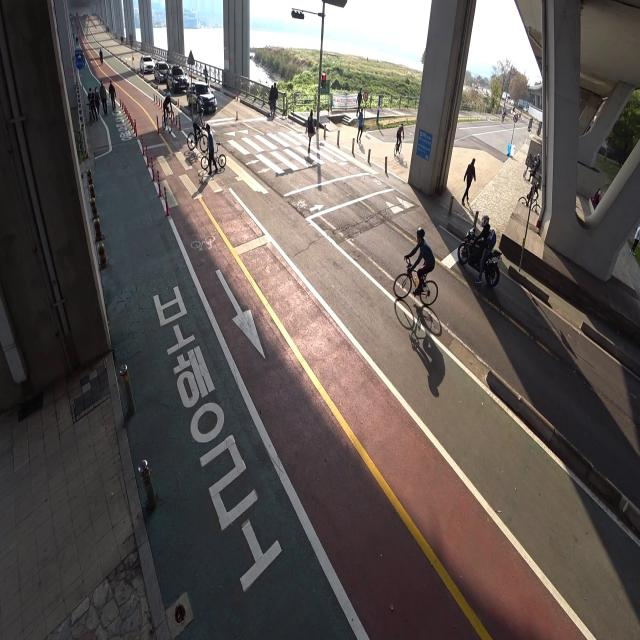Car: (184, 75, 216, 117), (166, 59, 188, 93), (154, 58, 170, 82), (138, 50, 152, 75)
Motorcycle: (457, 213, 502, 290)
